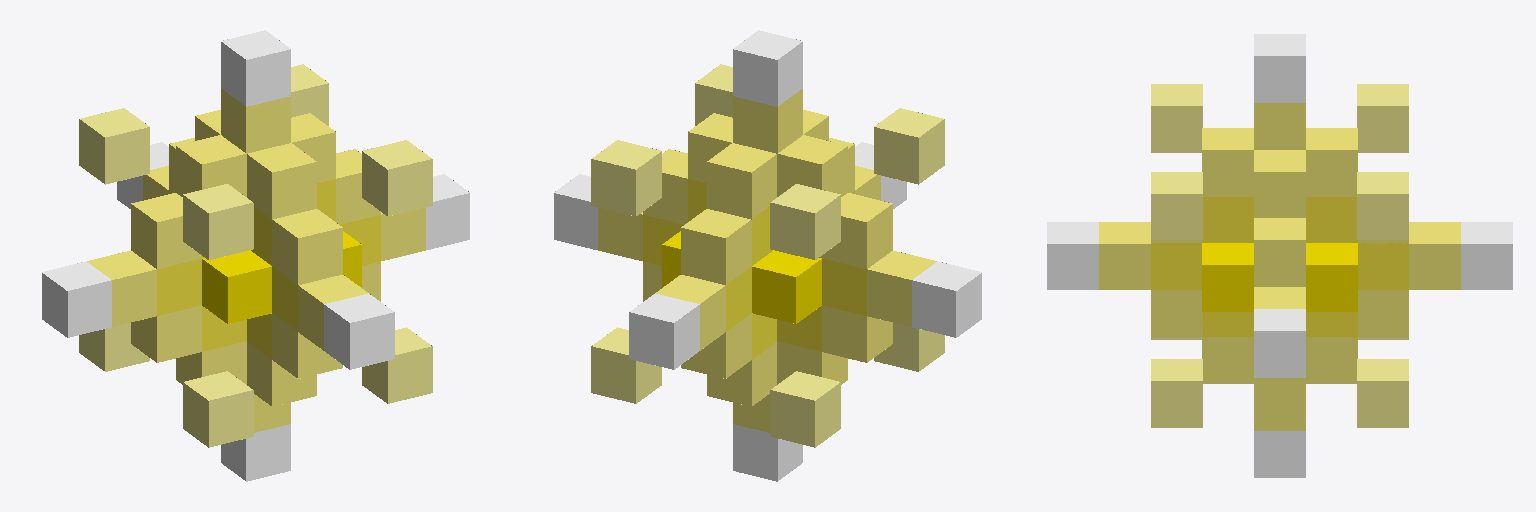
3 renders of one model, left to right at view 1: azimuth 30°, elevation 25°; view 2: azimuth 150°, elevation 25°; view 3: azimuth 270°, elevation 25°, orthographic.
Parts seen in each view (by area): view 1: AstromancerBasicAbility; view 2: AstromancerBasicAbility; view 3: AstromancerBasicAbility.
Part boxes in pixels (bbox=[...]): AstromancerBasicAbility: bbox=[42, 30, 469, 481]; AstromancerBasicAbility: bbox=[554, 30, 981, 481]; AstromancerBasicAbility: bbox=[1047, 34, 1512, 477].
Bounding box in the file's own units: 9 × 9 × 9.
1 materials, 1 textured.